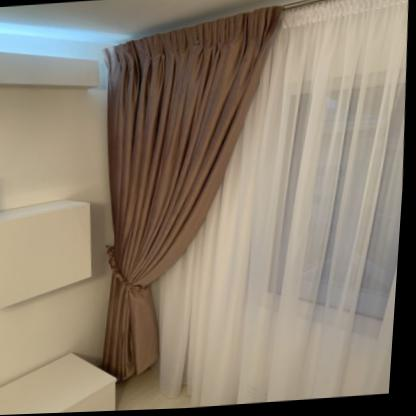Curtains: (106, 8, 289, 384)
